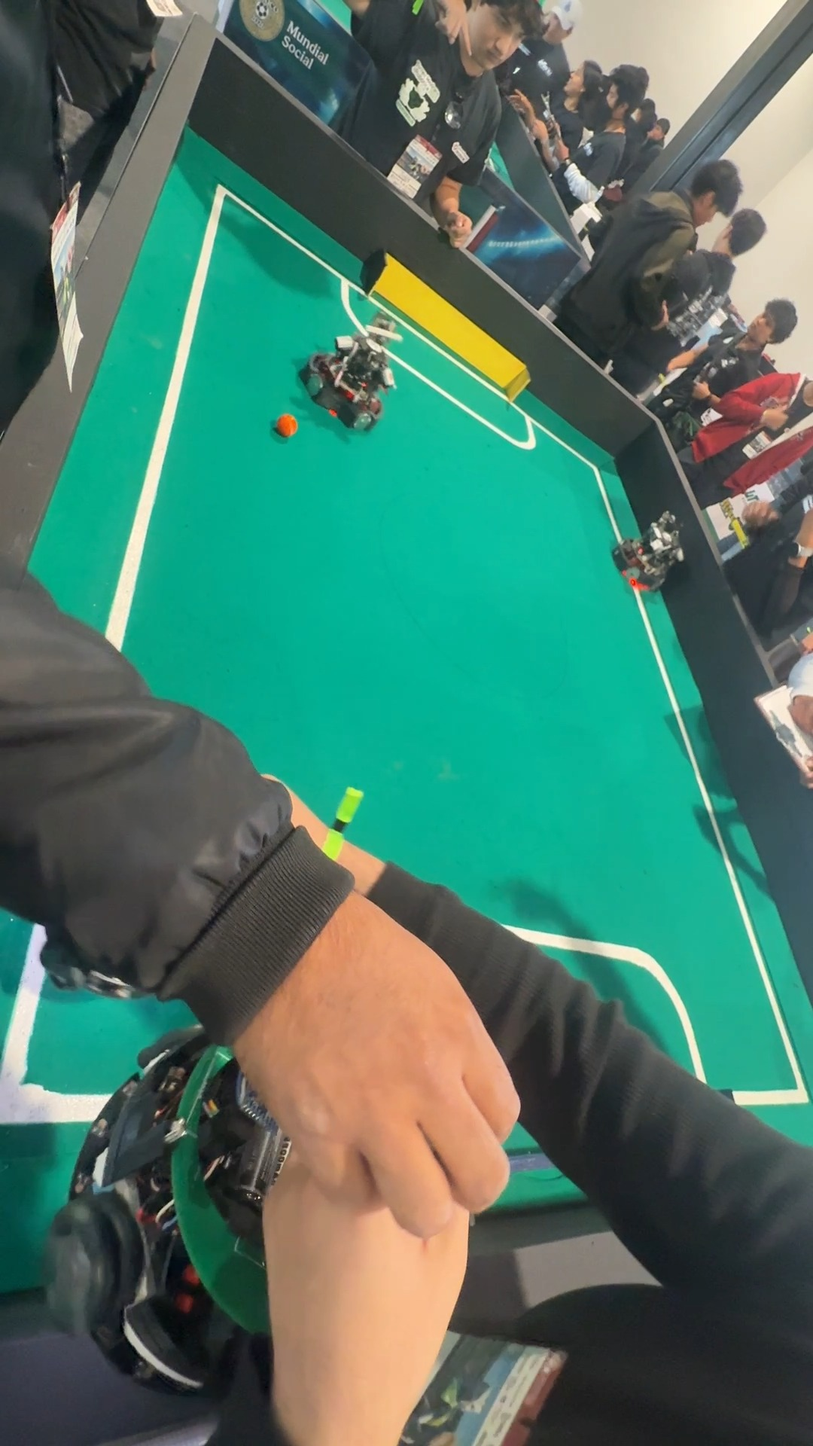Robot: (301, 309, 402, 435), (602, 507, 682, 602)
pelota: (265, 406, 304, 453)
